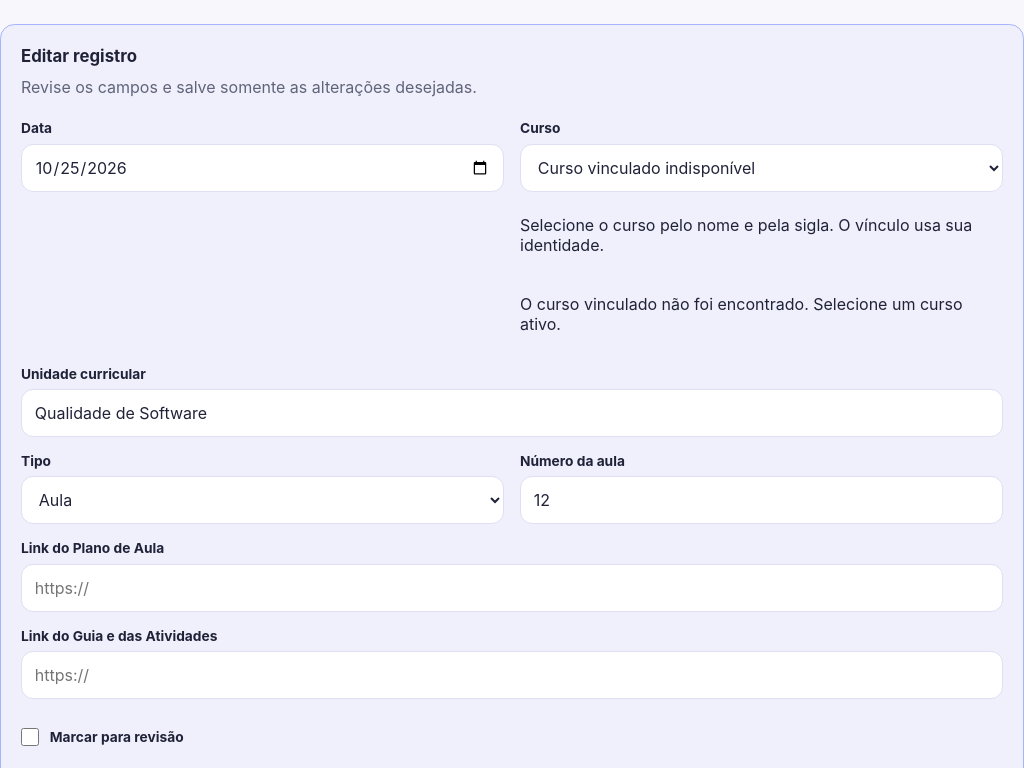
edição e preservação do vínculo › curso vinculado ausente bloqueia a gravação até a escolha de um curso ativo
Expected: the message shows "O curso vinculado não foi encontrado", [520,294,963,334]
Select "RC — Redes de Computadores" in the dropdown labelled "Curso" at [762, 168], box [520,144,1003,192]
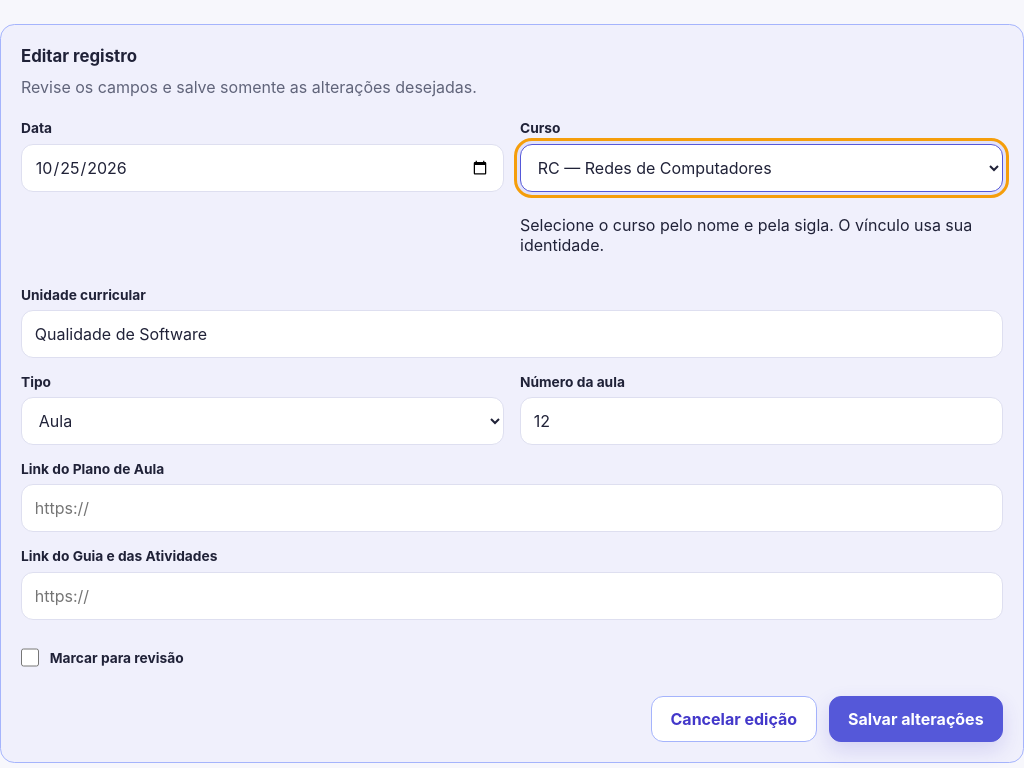
Result: the button "Salvar alterações" is enabled at [828,696,1003,742]
